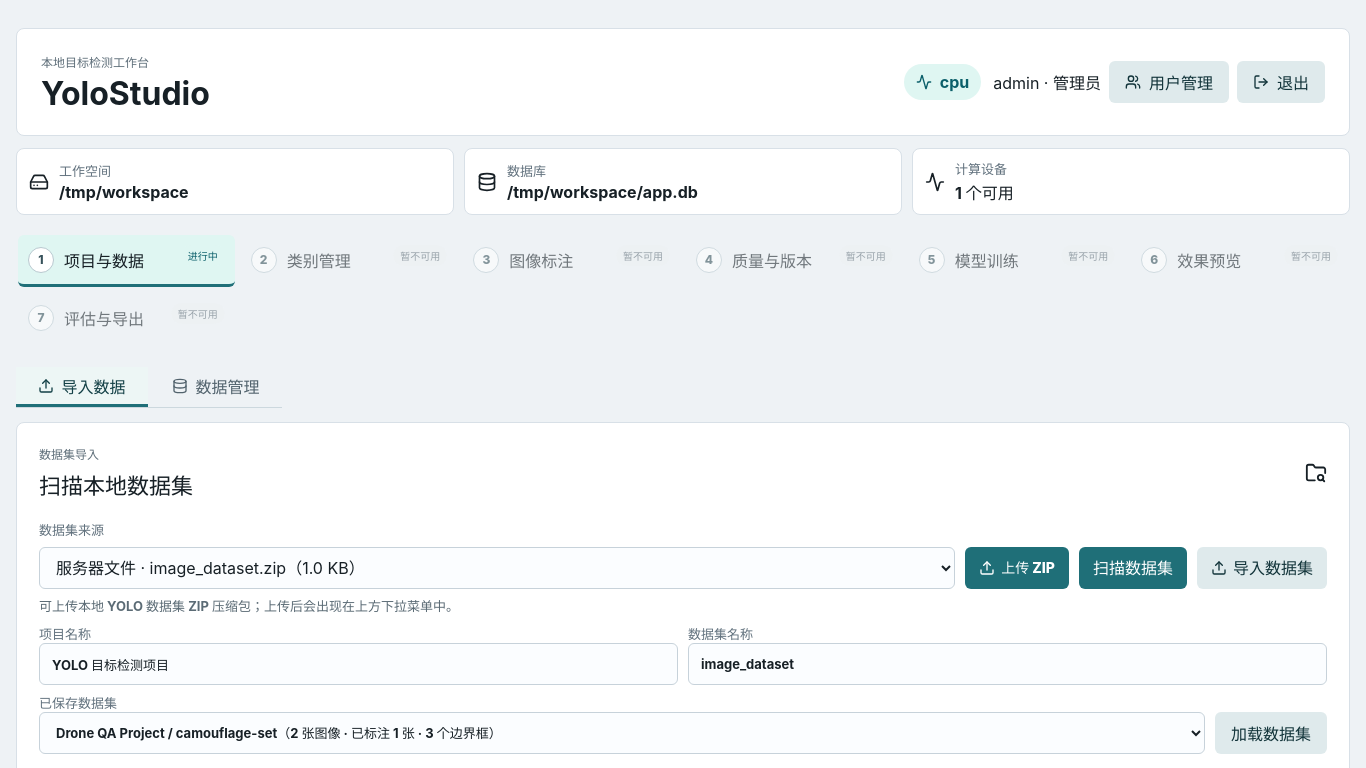
App › 在项目与数据页面切换导入数据和数据管理
The width and height of the screenshot is (1366, 768).
Expected: the dropdown labelled "数据集来源" is shown, 39,547 -> 955,589
Click the tab "数据管理" at (216,387), box 150,367 -> 282,407
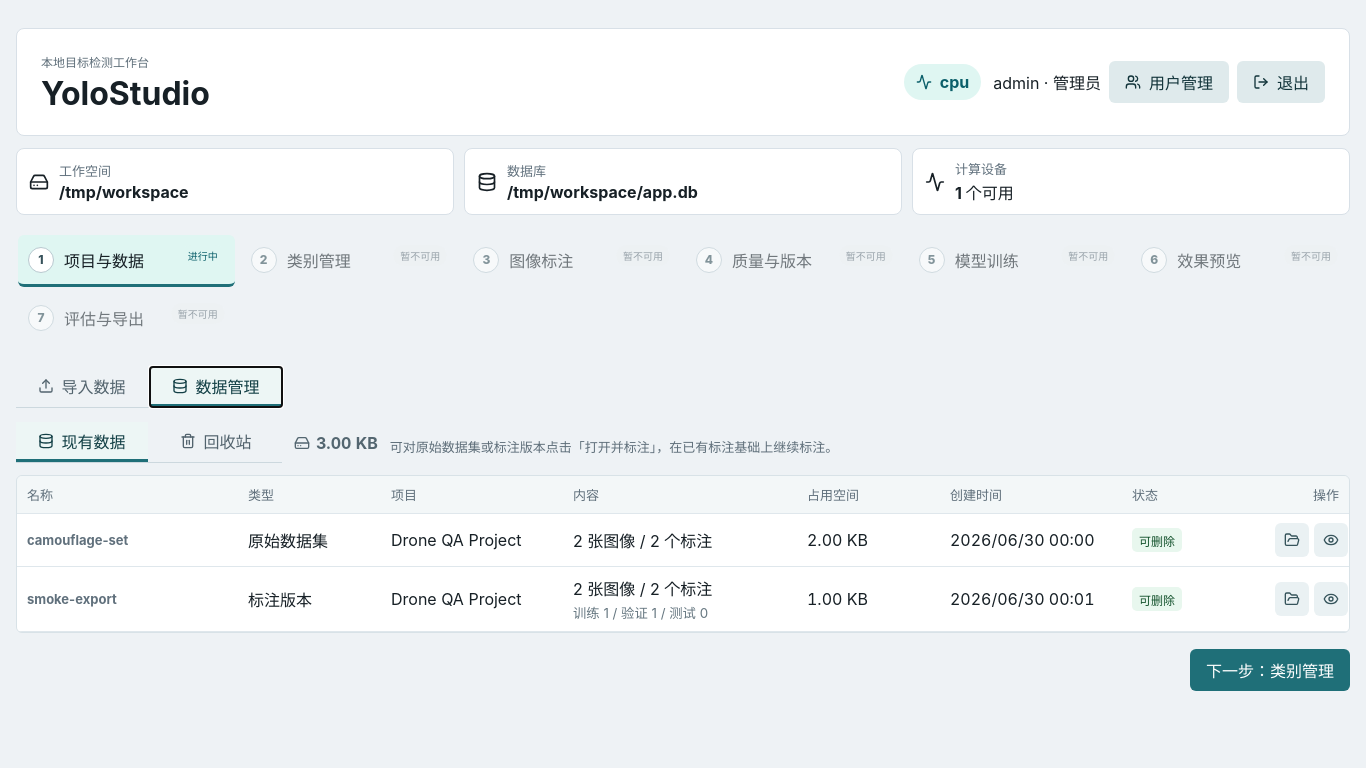
Now the table named "现有数据" is shown, box 17,476 -> 1349,632
Now the label labelled "数据集来源" is gone
